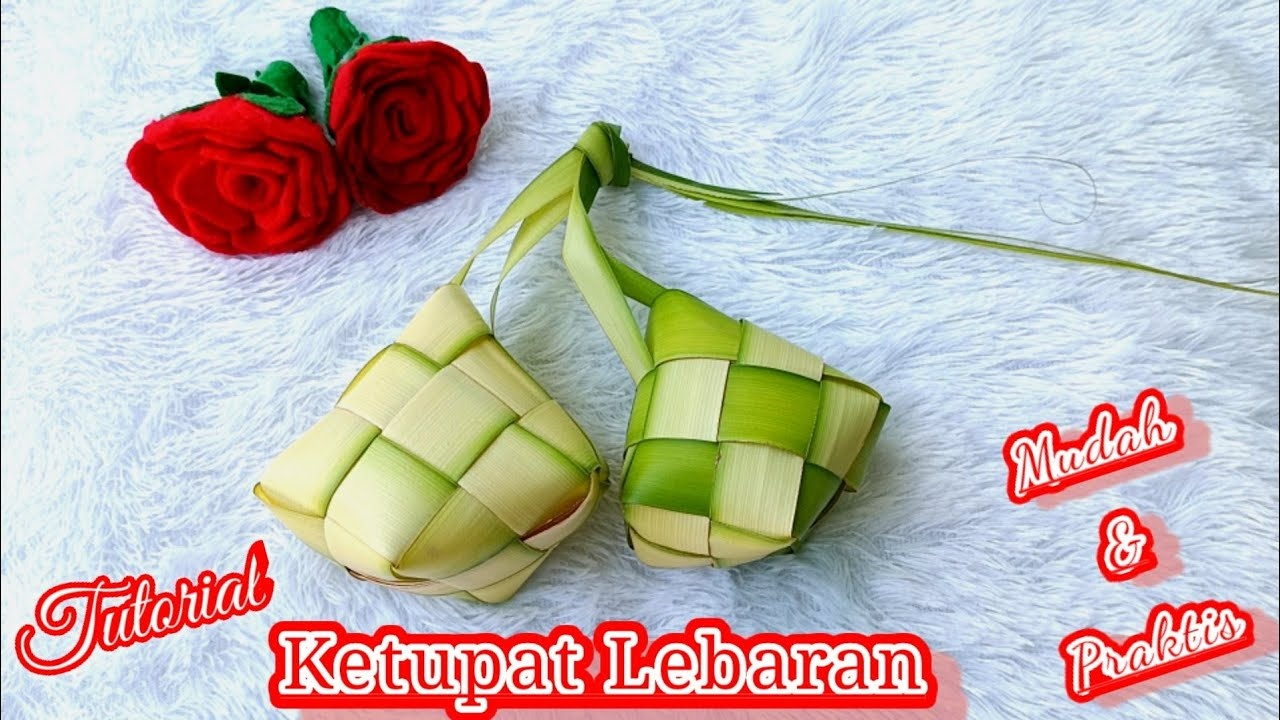ketupat: (250, 283, 609, 606), (615, 284, 890, 567)
